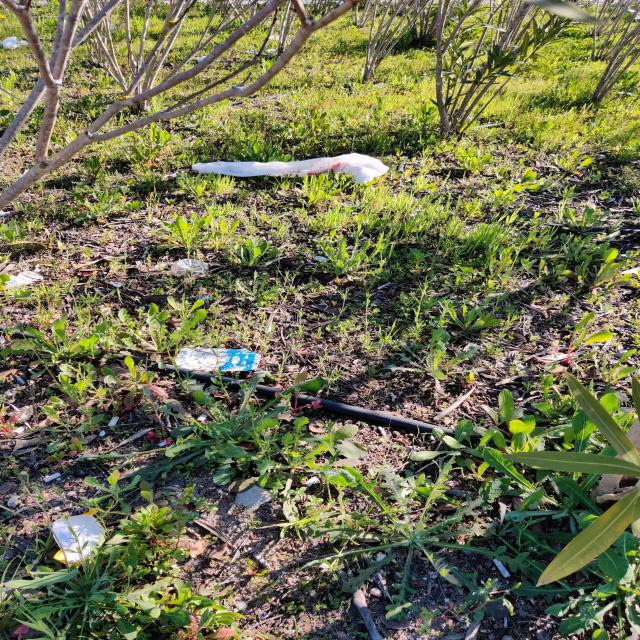litter: (184, 150, 399, 196), (46, 507, 113, 556), (164, 344, 263, 369)
